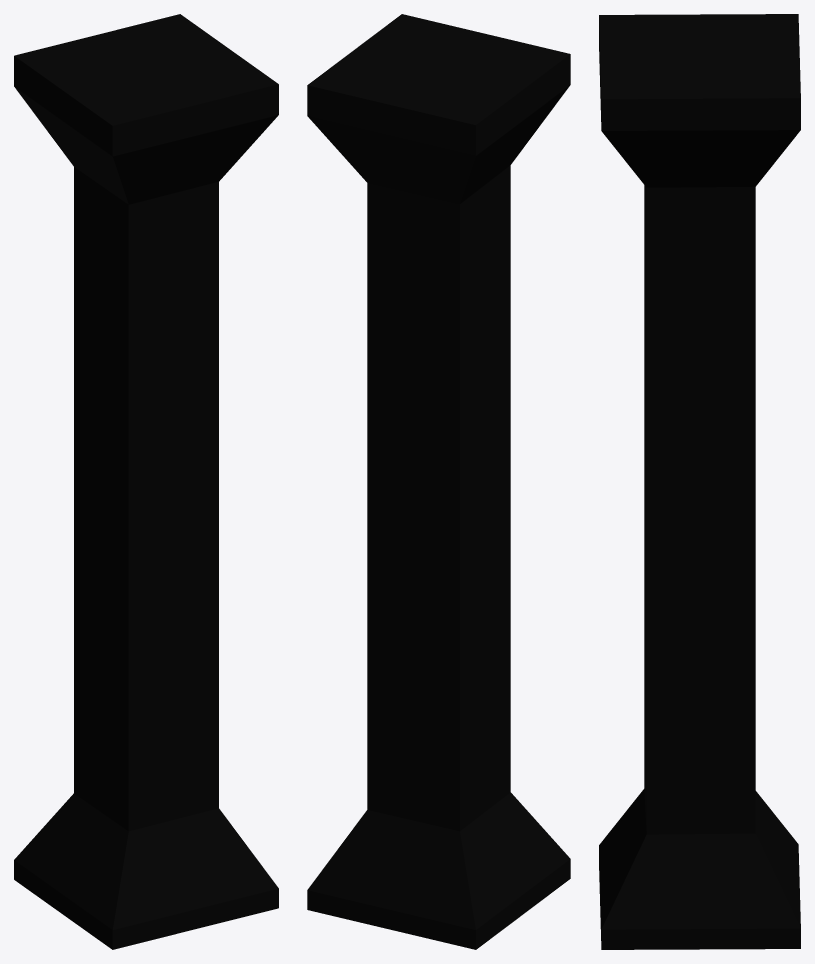
Rendered from Fill_In.fbx.
The picture shows the model from 3 angles, left to right: view 1: azimuth 30°, elevation 25°; view 2: azimuth 150°, elevation 25°; view 3: azimuth 270°, elevation 25°; orthographic projection. The views are drawn at different scales.
Visible parts, largest first — view 1: Walls_6.001; view 2: Walls_6.001; view 3: Walls_6.001.
Part boxes in pixels (left/top/right/bottom): Walls_6.001: left=14, top=14, right=278, bottom=949; Walls_6.001: left=307, top=14, right=570, bottom=949; Walls_6.001: left=599, top=14, right=800, bottom=949.
Bounding box in the file's own units: 93.1 × 433 × 93.1.
1 material, 1 textured.
